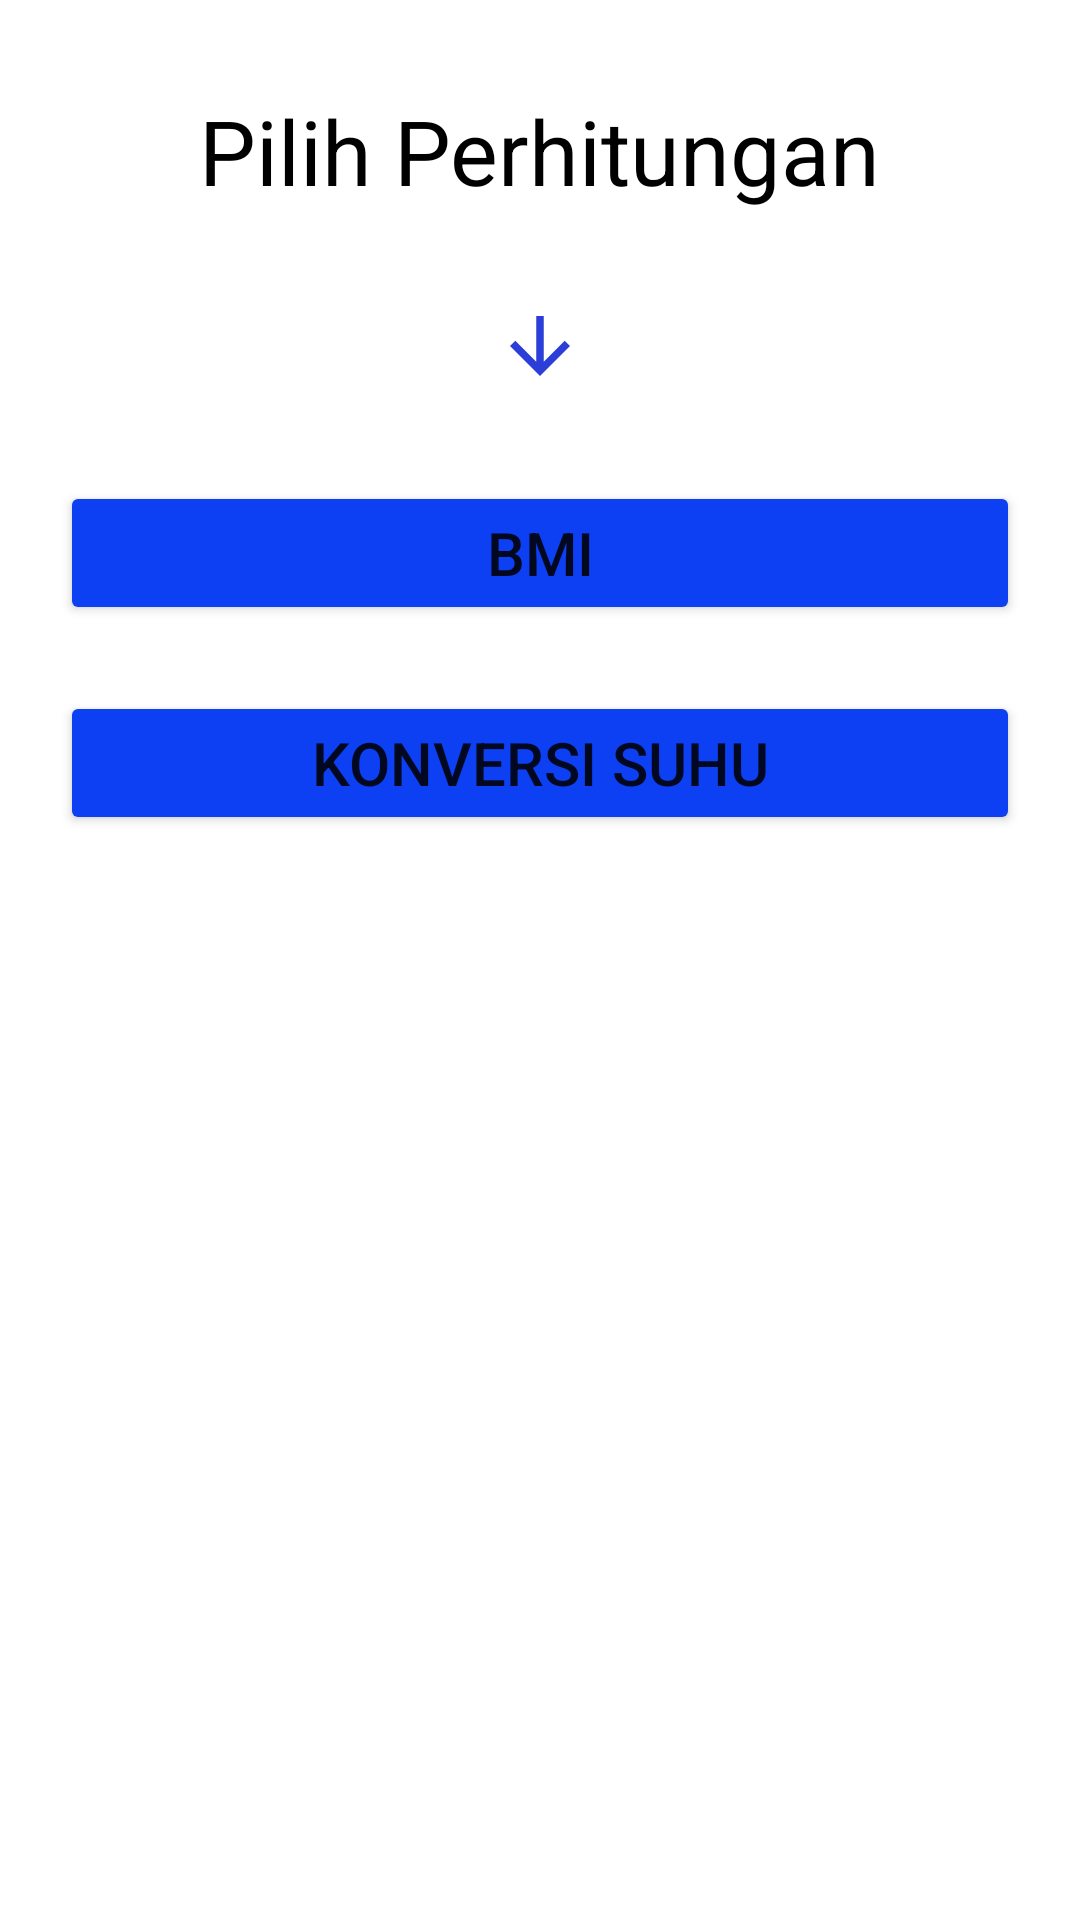

Icons on this 1080w x 1920h Android screen, each with its box as bbox=(x1, y1, x2, y2):
panah: bbox=(510, 316, 570, 376)
